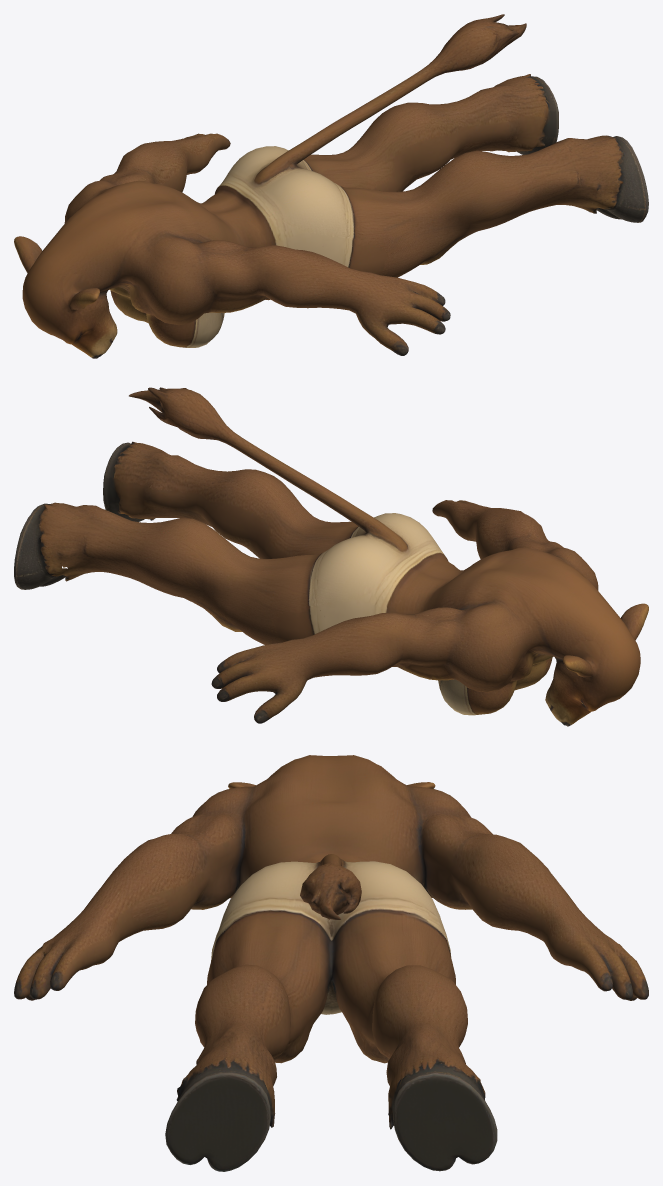
Rendered from humanoid.vurok.female.lp.cartoon.glb.
The picture shows the model from 3 angles, top to bottom: view 1: azimuth 30°, elevation 25°; view 2: azimuth 150°, elevation 25°; view 3: azimuth 270°, elevation 25°; orthographic projection. The views are drawn at different scales.
Visible parts, largest first — view 1: tripo_node_456387eb; view 2: tripo_node_456387eb; view 3: tripo_node_456387eb.
Part boxes in pixels (x1,y1,x2,y2): tripo_node_456387eb: (14,14,648,358); tripo_node_456387eb: (14,387,648,726); tripo_node_456387eb: (14,755,648,1171).
Bounding box in the file's own units: 0.9996 × 0.4114 × 0.7754.
1 material, 1 textured.
